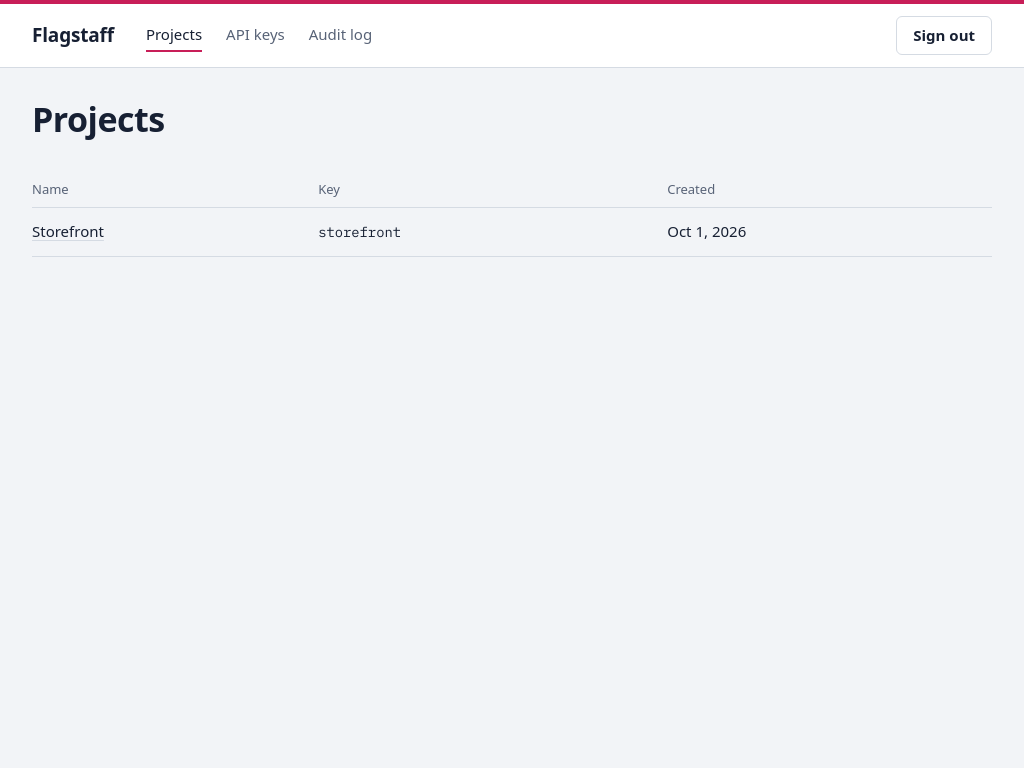
Test: signing out › forgets the key
Click the button "Sign out". click: (944, 36)
box: [896,16,992,55]
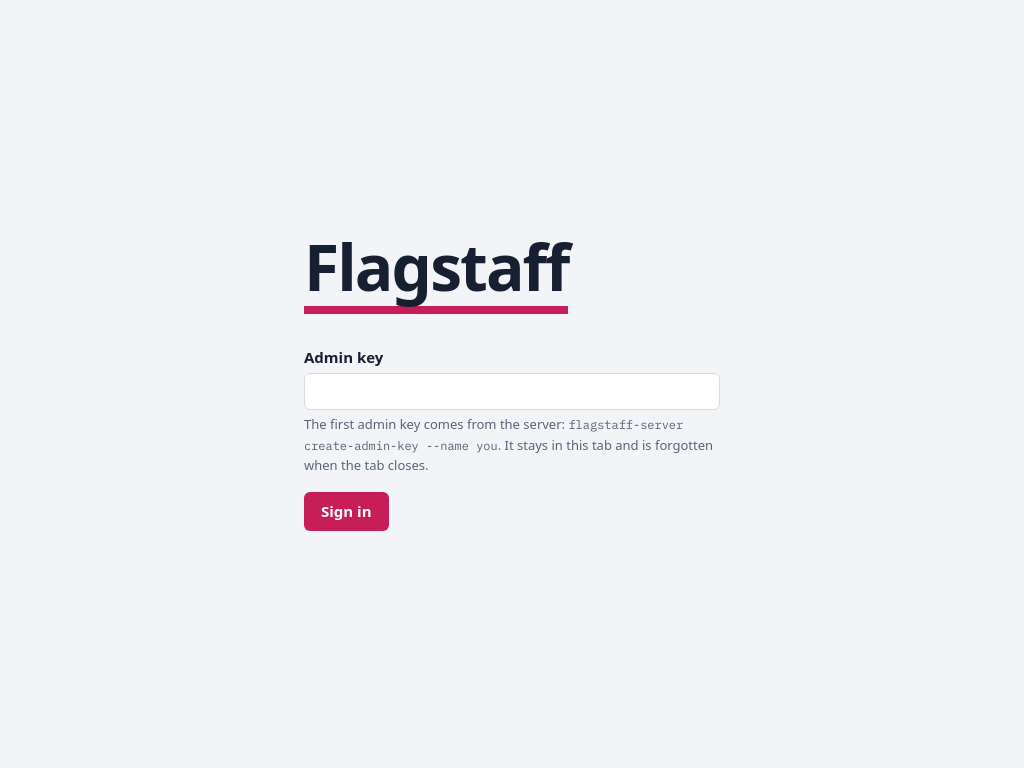
Expected: the password field labelled "Admin key" is shown, [304,373,720,410]
